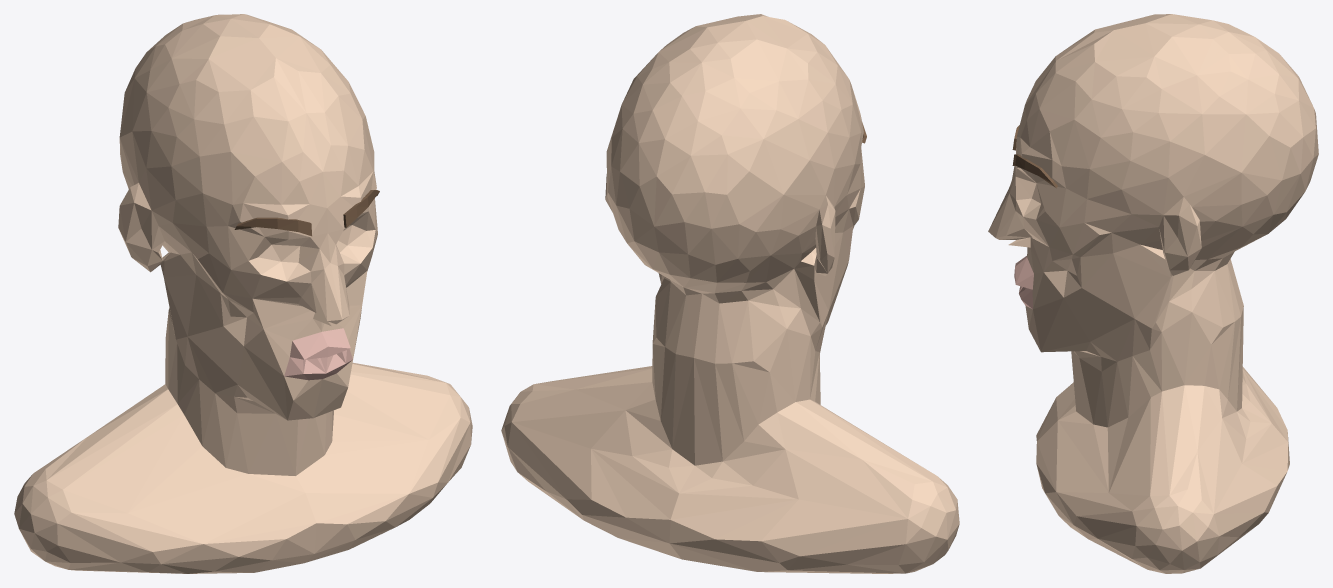
The model's file is planar.glb.
3 views of the same model, side by side, from view 1: azimuth 30°, elevation 25°; view 2: azimuth 150°, elevation 25°; view 3: azimuth 270°, elevation 25° (orthographic). The views are drawn at different scales.
Visible parts, largest first — view 1: Head_Main, Eyebrow_R; view 2: Head_Main; view 3: Head_Main, Eyebrow_L.
Part boxes in pixels (<box>): Head_Main: <box>14,14,472,573</box>; Eyebrow_R: <box>234,217,311,236</box>; Head_Main: <box>501,14,959,573</box>; Head_Main: <box>988,14,1318,573</box>; Eyebrow_L: <box>1012,154,1057,188</box>.
Size of the model in its own units: 0.3209 by 0.3417 by 0.2204.
